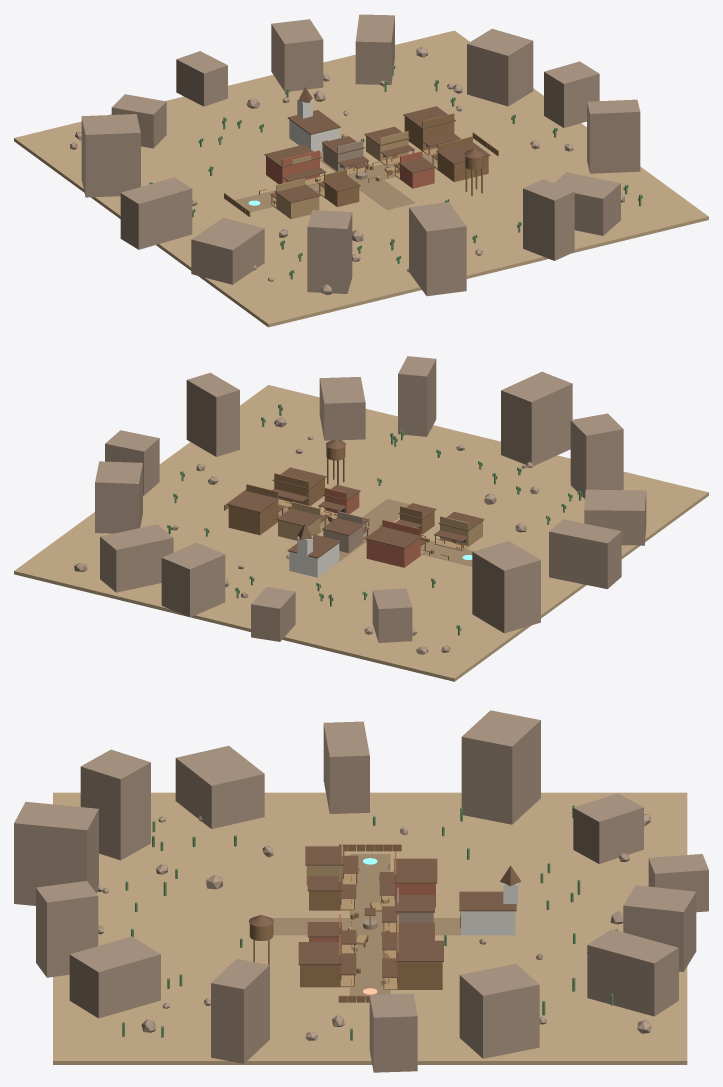
Rendered from CowboyMap.glb.
3 renders of one model, top to bottom at view 1: azimuth 30°, elevation 25°; view 2: azimuth 150°, elevation 25°; view 3: azimuth 270°, elevation 25°, orthographic. The views are drawn at different scales.
Visible parts, largest first — view 1: Ground, Mesa.010, Mesa.006, Mesa.001, Mesa.007, Mesa.013, Mesa.008, Mesa.011, Mesa.009, Mesa.003, Mesa, Mesa.012 (+18 smaller); view 2: Ground, Mesa.010, Mesa.006, Mesa.007, Mesa.003, Mesa.009, Mesa.013, Mesa.002, Mesa.001, Mesa.011, Mesa.012, Mesa.008 (+13 smaller); view 3: Ground, Mesa.006, Mesa.010, Mesa.001, Mesa.002, Mesa.009, Mesa.012, Mesa.008, Mesa.013, Mesa.011, Mesa.003, Mesa.007 (+16 smaller).
Boxes of the visible parts, x1,y1,x2,y2 form: Ground: (14,30,708,327); Mesa.010: (409,202,466,296); Mesa.006: (81,114,140,197); Mesa.001: (467,28,533,106); Mesa.007: (120,177,192,249); Mesa.013: (587,99,640,173); Mesa.008: (191,217,264,284); Mesa.011: (523,179,574,260); Mesa.009: (307,210,352,293); Mesa.003: (271,19,323,91); Mesa: (544,61,599,127); Mesa.012: (554,172,620,235); Ground: (14,385,708,681); Mesa.010: (501,371,572,465); Mesa.006: (472,541,540,633); Mesa.007: (549,519,621,589); Mesa.003: (161,542,225,617); Mesa.009: (570,413,623,498); Mesa.013: (186,372,239,456); Mesa.002: (100,524,173,592); Mesa.001: (95,461,142,533); Mesa.011: (398,356,436,436); Mesa.012: (319,377,365,440); Mesa.008: (584,489,646,545); Ground: (53,792,687,1064); Mesa.006: (461,710,540,824); Mesa.010: (14,802,98,905); Mesa.001: (459,963,539,1058); Mesa.002: (587,929,678,1016); Mesa.009: (80,749,150,860); Mesa.012: (69,936,160,1018); Mesa.008: (175,745,264,828); Mesa.013: (211,959,269,1063); Mesa.011: (36,881,98,977); Mesa.003: (623,885,696,971); Mesa.007: (323,721,369,813).
Bounding box in the file's own units: 154 × 20.98 × 153.
